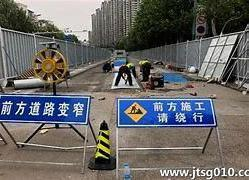sign: (117, 98, 216, 126), (1, 95, 90, 125)
